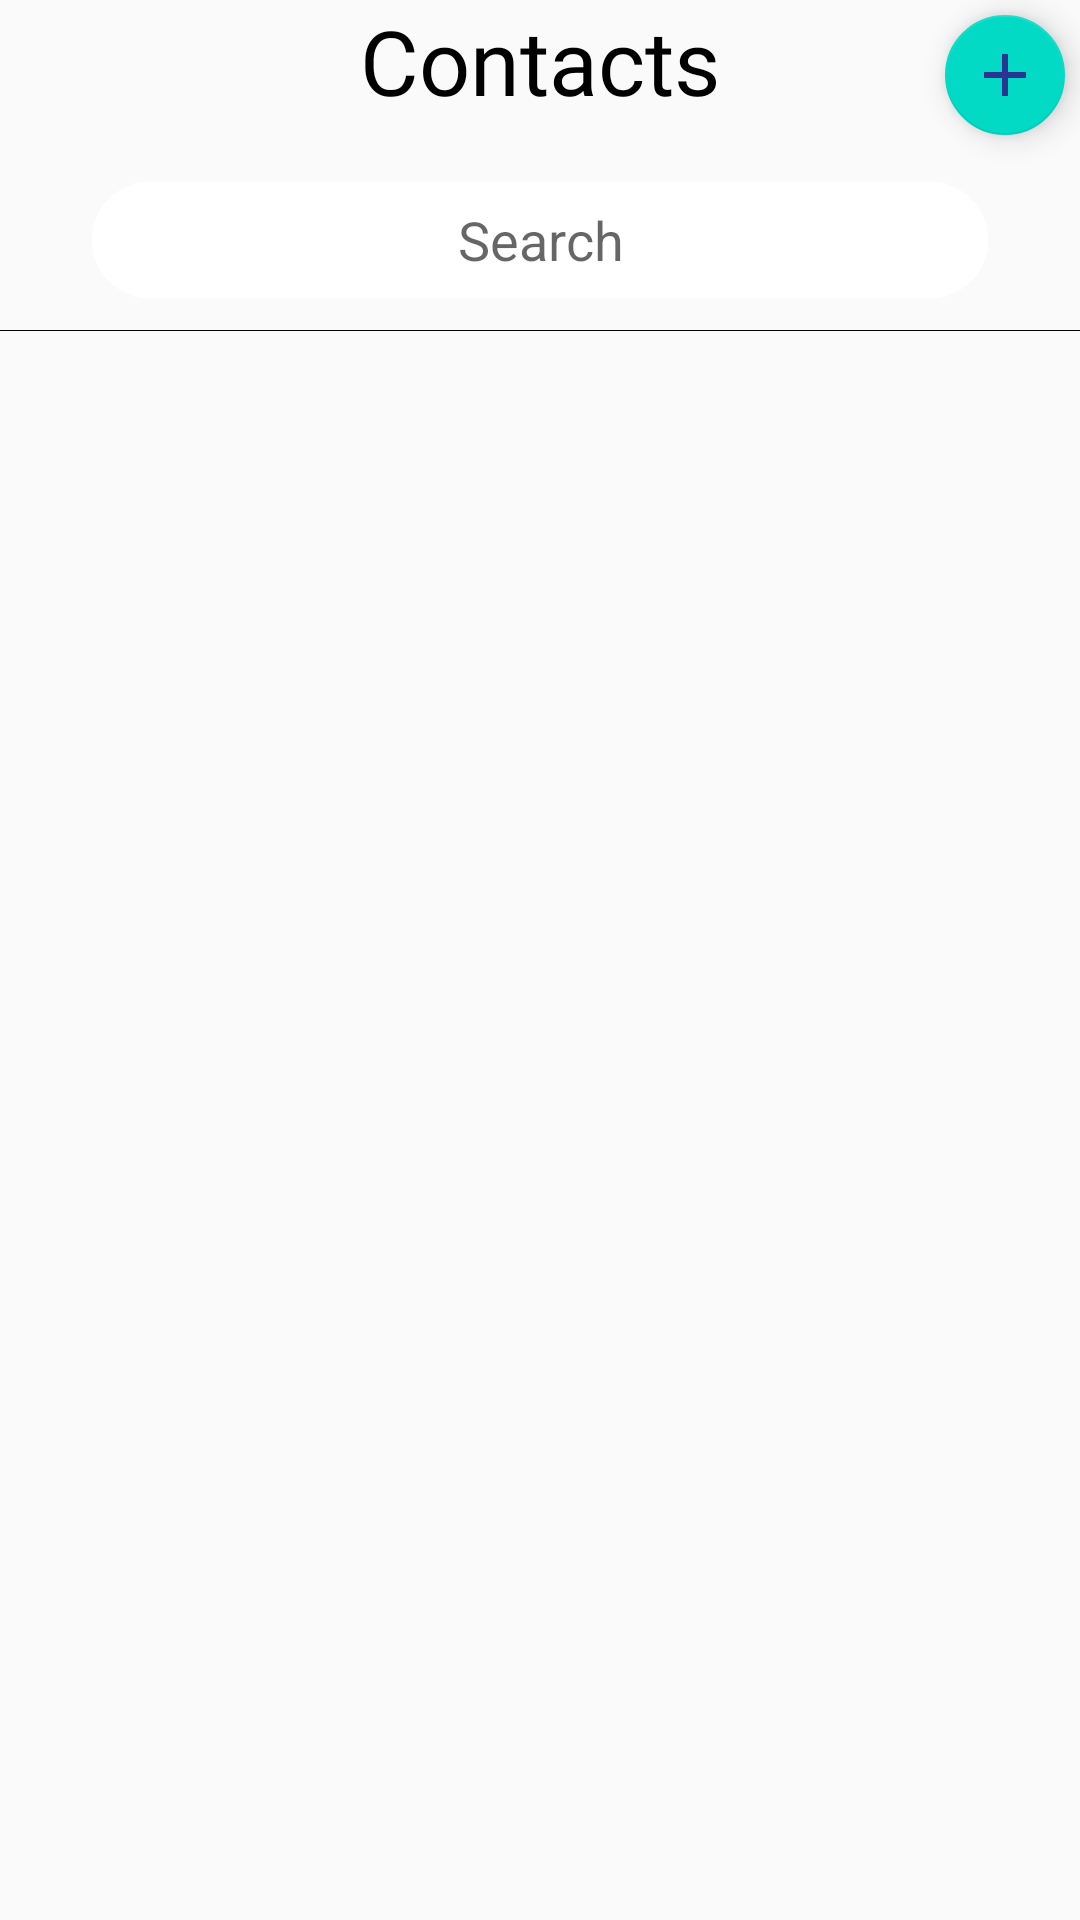

Where to tap for icons on this 1080x1920 app screen, as (x,y):
add: (1005,75)
